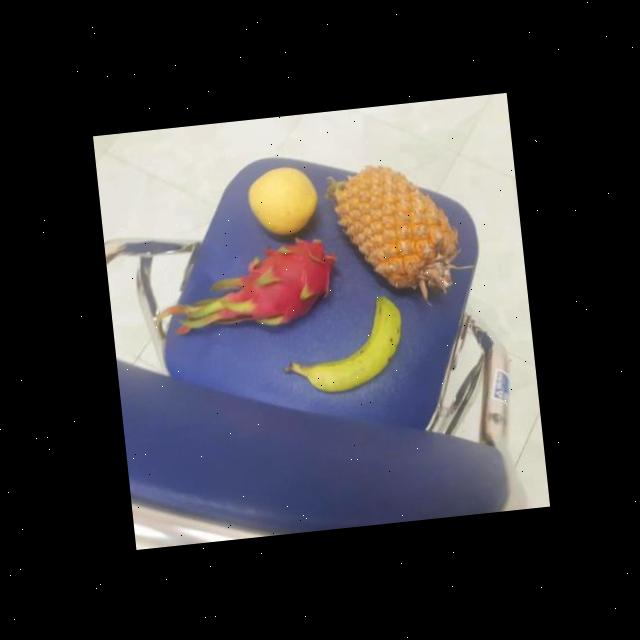banana: (276, 292, 406, 397)
pear: (242, 162, 322, 239)
pineapple: (318, 154, 464, 311)
pitaya: (228, 235, 338, 329)
